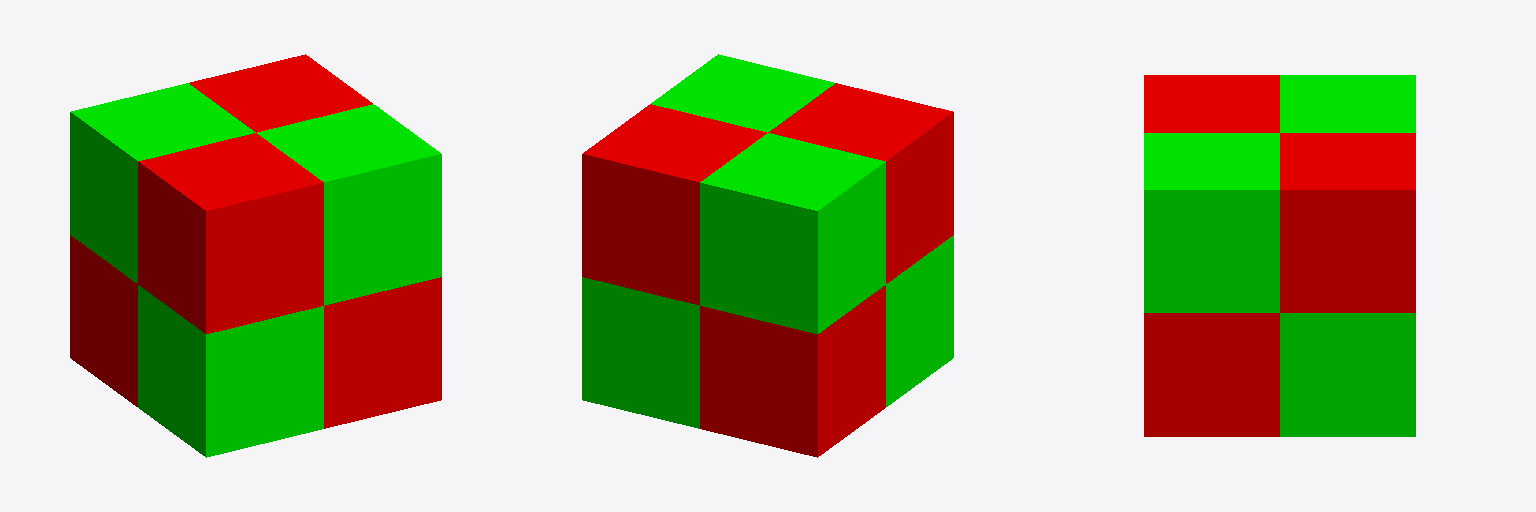
3 renders of one model, left to right at view 1: azimuth 30°, elevation 25°; view 2: azimuth 150°, elevation 25°; view 3: azimuth 270°, elevation 25°, orthographic.
Parts seen in each view (by area): view 1: Cube_Cube.002; view 2: Cube_Cube.002; view 3: Cube_Cube.002.
Part boxes in pixels (left/top/right/bottom): Cube_Cube.002: left=70, top=54, right=441, bottom=457; Cube_Cube.002: left=582, top=54, right=953, bottom=457; Cube_Cube.002: left=1144, top=75, right=1415, bottom=436.
Bounding box in the file's own units: 2 × 2 × 2.
1 materials, 1 textured.